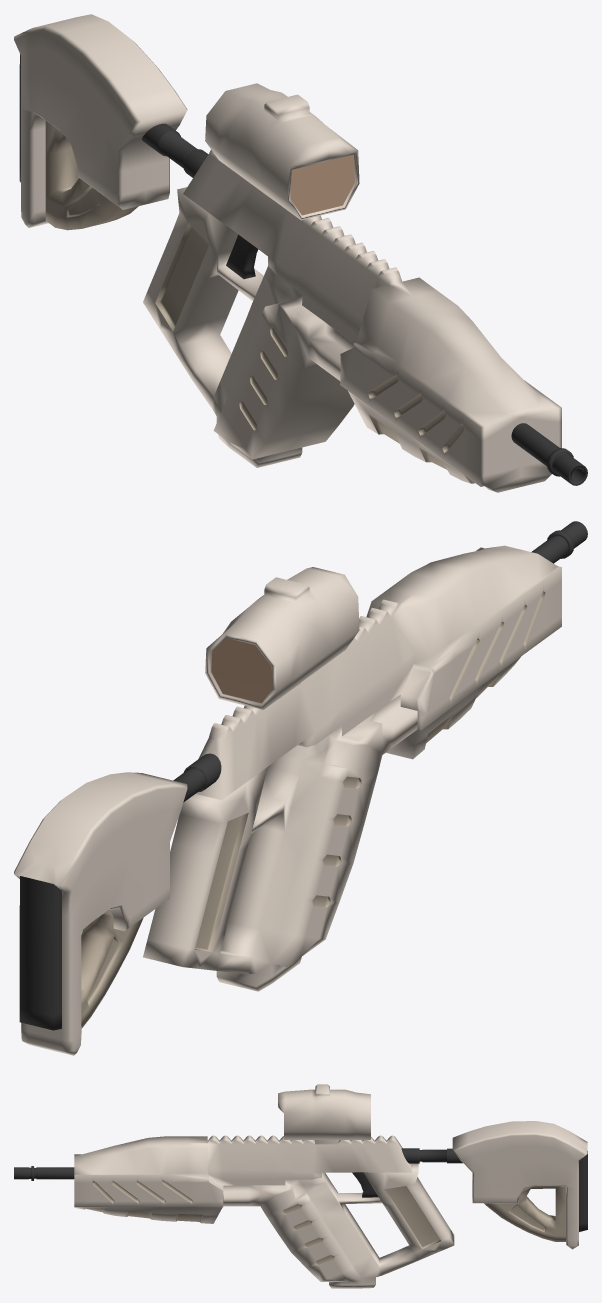
3 renders of one model, top to bottom at view 1: azimuth 30°, elevation 25°; view 2: azimuth 150°, elevation 25°; view 3: azimuth 270°, elevation 25°, orthographic. The views are drawn at different scales.
Visible parts, largest first — view 1: frente (×2), parte_baja (×2), parte_trasera (×2), mira, lentes, Cylinder, Cylinder_1, disparador; view 2: parte_baja (×2), frente (×2), parte_trasera (×3), mira, lentes, Cylinder, Cylinder_1; view 3: frente (×2), parte_baja (×2), parte_trasera (×3), mira, Cylinder_1, Cylinder, disparador.
Boxes of the visible parts, bbox=[...] form: frente (×2): bbox=[183, 150, 561, 492]; parte_baja (×2): bbox=[143, 187, 354, 467]; parte_trasera (×2): bbox=[14, 14, 187, 230]; mira: bbox=[205, 83, 359, 220]; lentes: bbox=[290, 155, 354, 215]; Cylinder: bbox=[511, 423, 587, 485]; Cylinder_1: bbox=[142, 123, 208, 177]; disparador: bbox=[226, 234, 258, 279]; parte_baja (×2): bbox=[143, 694, 417, 991]; frente (×2): bbox=[195, 545, 561, 800]; parte_trasera (×3): bbox=[14, 772, 187, 1055]; mira: bbox=[205, 567, 359, 709]; lentes: bbox=[211, 638, 272, 703]; Cylinder: bbox=[531, 521, 587, 563]; Cylinder_1: bbox=[173, 753, 221, 802]; frente (×2): bbox=[74, 1135, 412, 1223]; parte_baja (×2): bbox=[223, 1163, 454, 1288]; parte_trasera (×3): bbox=[452, 1121, 587, 1249]; mira: bbox=[278, 1084, 370, 1139]; Cylinder_1: bbox=[401, 1148, 462, 1163]; Cylinder: bbox=[14, 1166, 74, 1180]; disparador: bbox=[352, 1172, 378, 1197].
Bounding box in the file's own units: 0.1731 × 0.7477 × 2.
